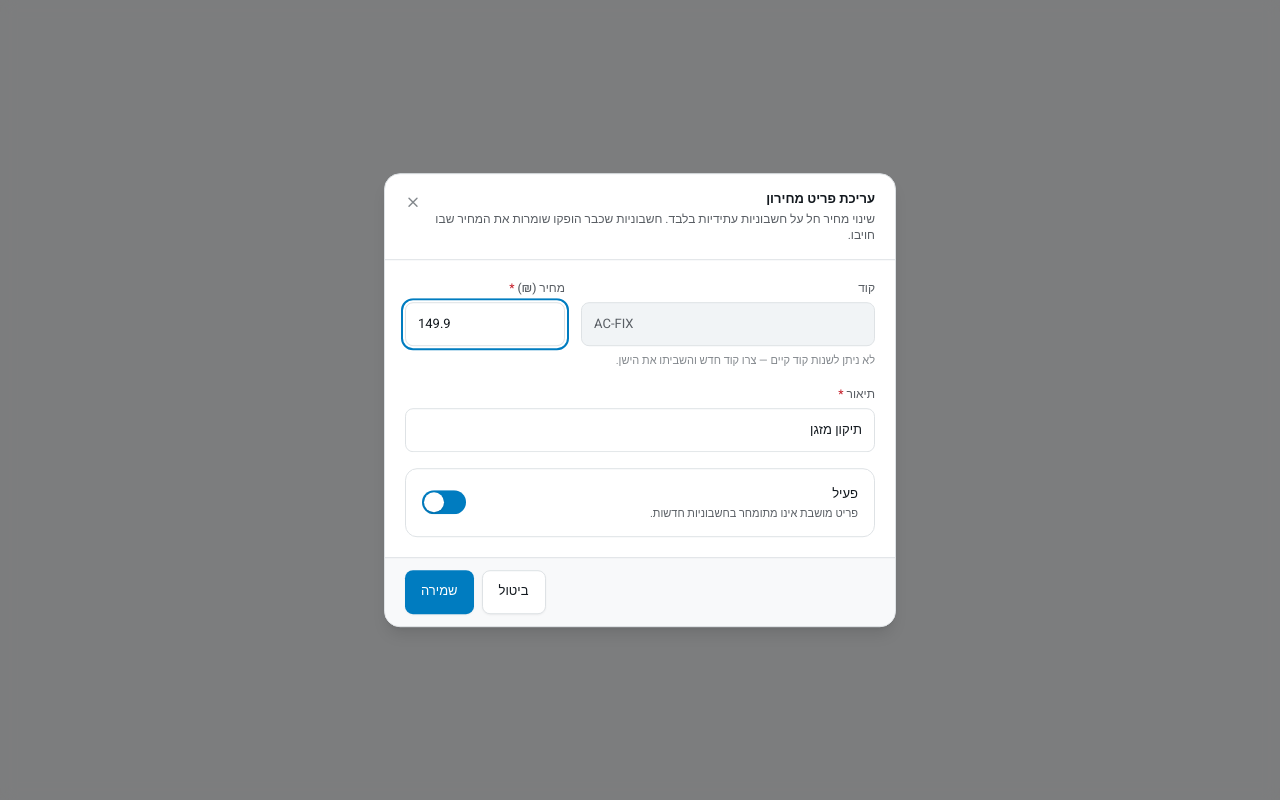
Test case: PriceItemDialog — edit › warns before deactivating a code that active templates still use
This screenshot has width=1280, height=800.
Click the switch: click(444, 502) [422, 490, 466, 514]
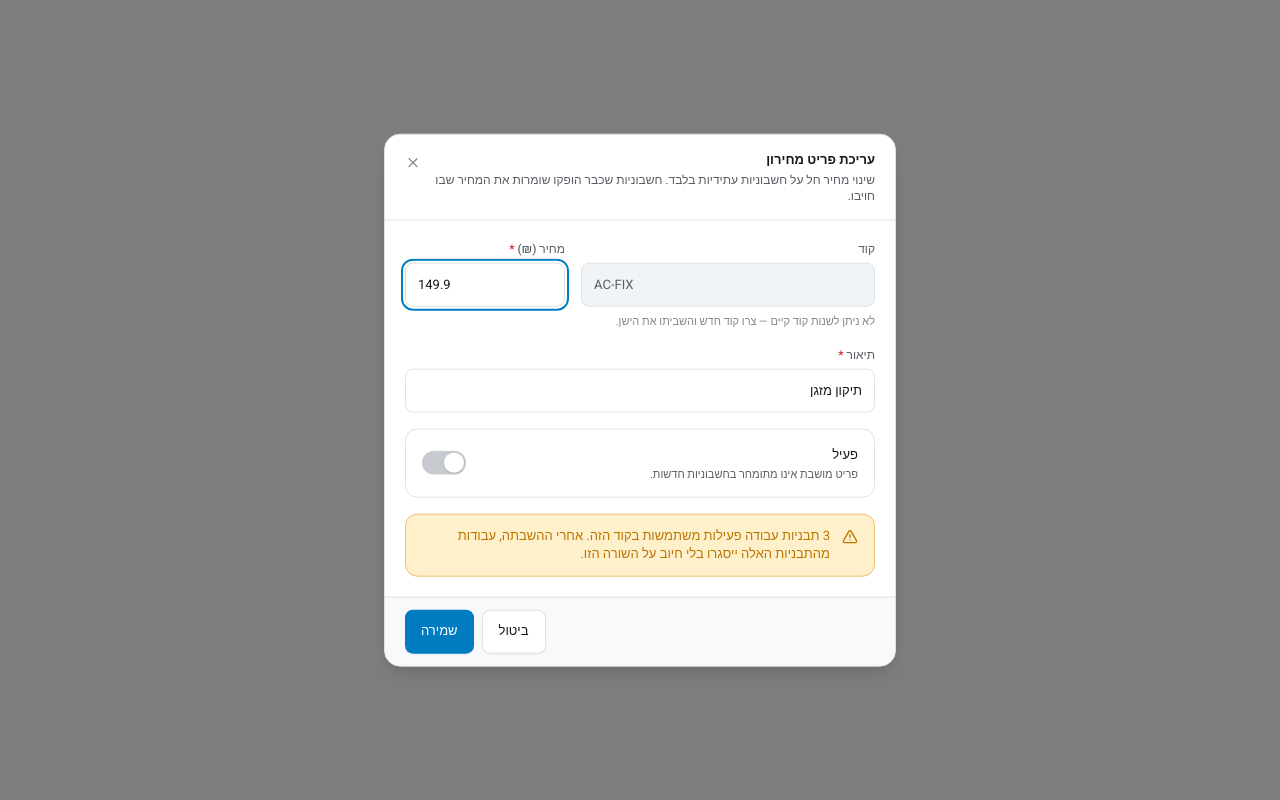
expect the message shows "3 תבניות עבודה פעילות": met, box [704, 525, 830, 544]
